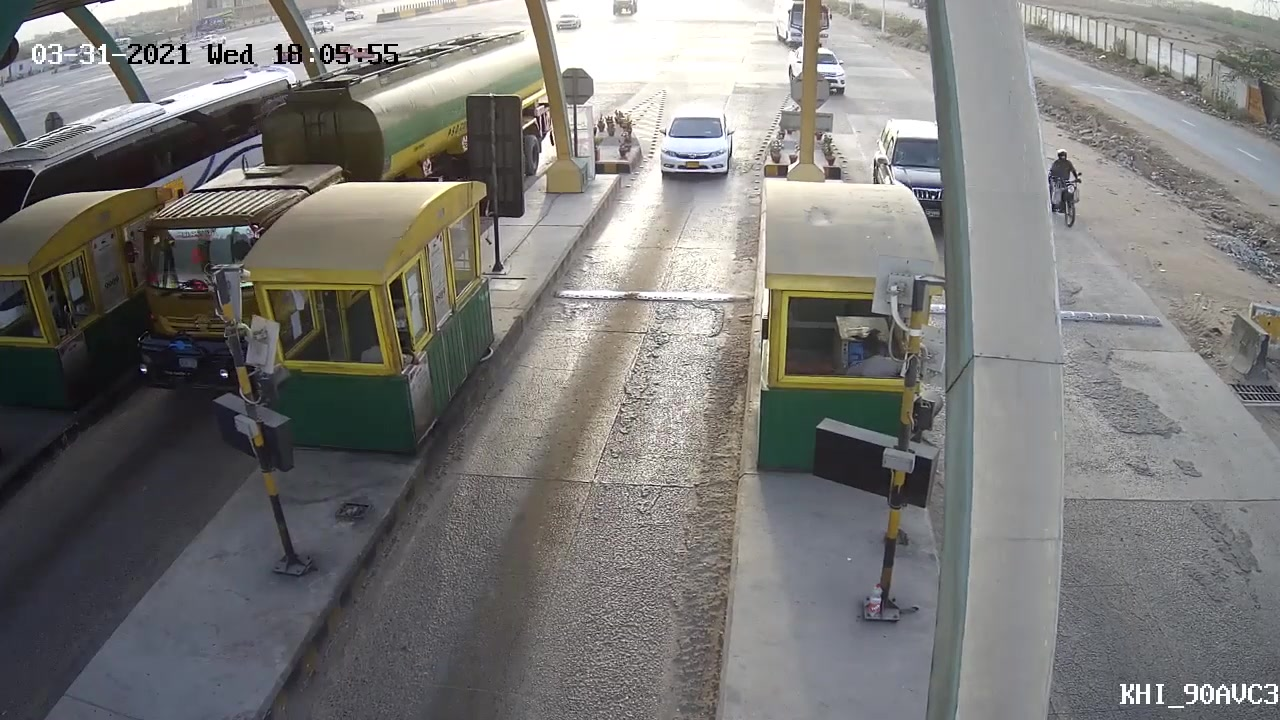F1: (649, 108, 742, 186)
